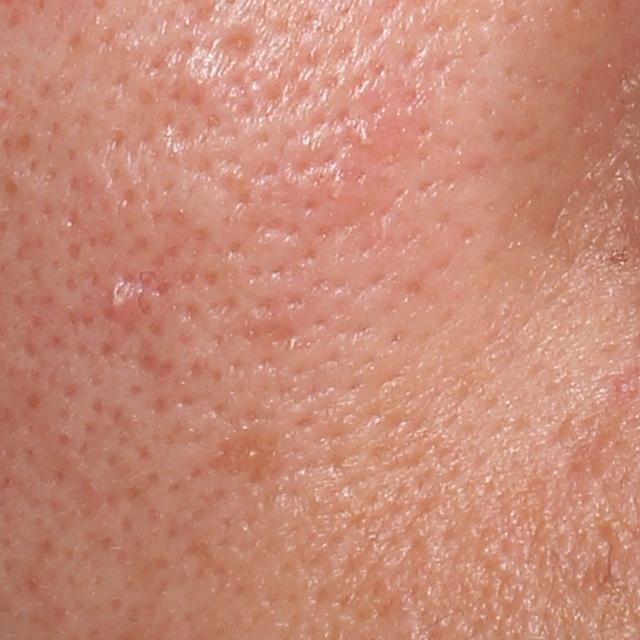atrophic_scar: (204, 434, 289, 492), (133, 336, 178, 383), (212, 25, 256, 59)
pustule: (99, 281, 149, 318)
